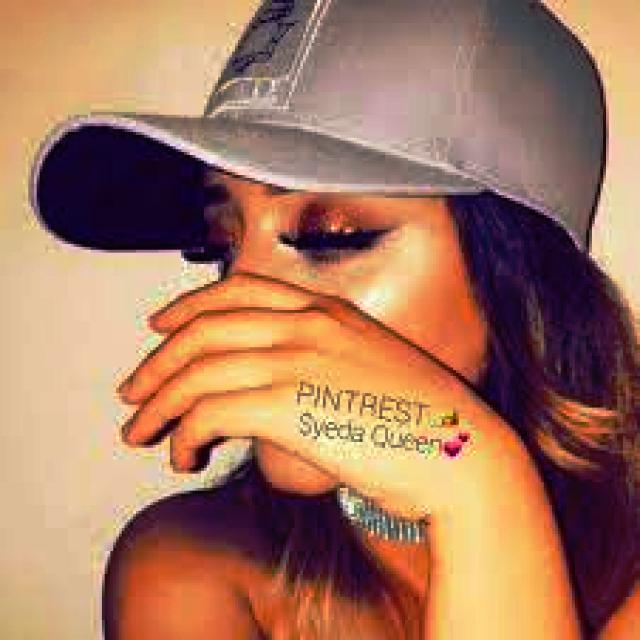TOPI: (4, 0, 622, 311)
